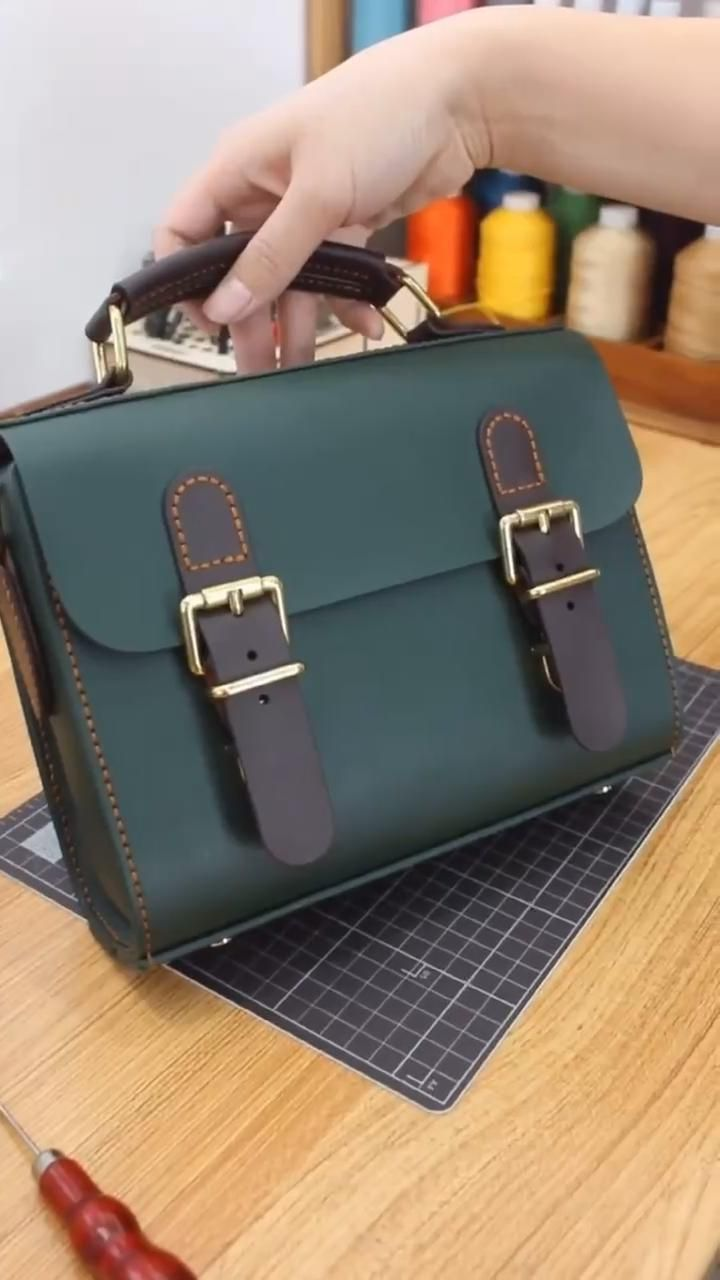cuero: (1, 233, 688, 971)
